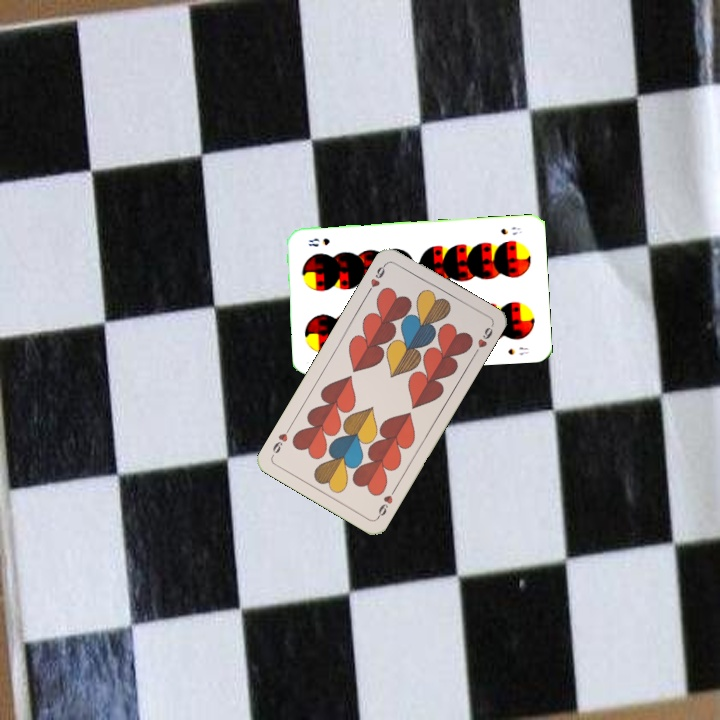H9: (363, 259, 390, 296), (373, 484, 399, 521)
S8: (497, 223, 524, 237)
